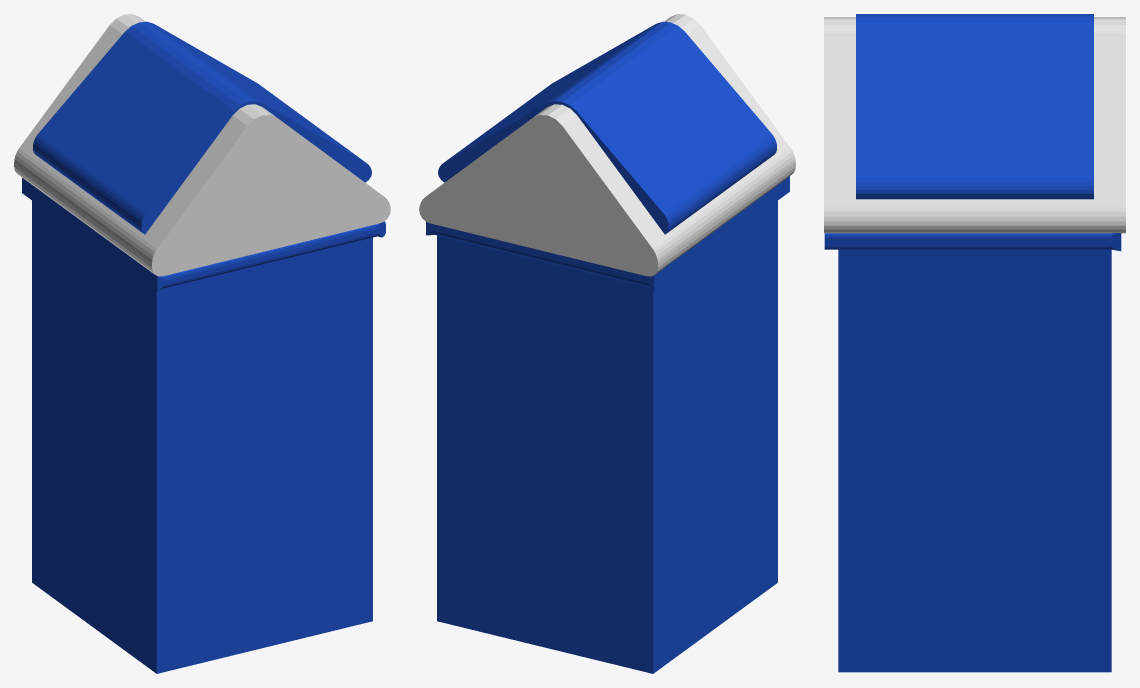
File: TrashCan.fbx
3 renders of one model, left to right at view 1: azimuth 30°, elevation 25°; view 2: azimuth 150°, elevation 25°; view 3: azimuth 270°, elevation 25°, orthographic. The views are drawn at different scales.
Visible parts, largest first — view 1: Trash can, Cube, Cube.004; view 2: Trash can, Cube, Cube.004; view 3: Trash can, Cube.004, Cube.
Boxes of the visible parts, x1,y1,x2,y2 form: Trash can: (22,178,385,673); Cube: (14,14,390,276); Cube.004: (33,21,371,234); Trash can: (426,176,789,673); Cube: (419,14,795,276); Cube.004: (438,21,776,234); Trash can: (824,233,1121,672); Cube.004: (856,14,1093,199); Cube: (824,17,1125,233).
Size of the model in its own units: 221 by 479 by 221.
